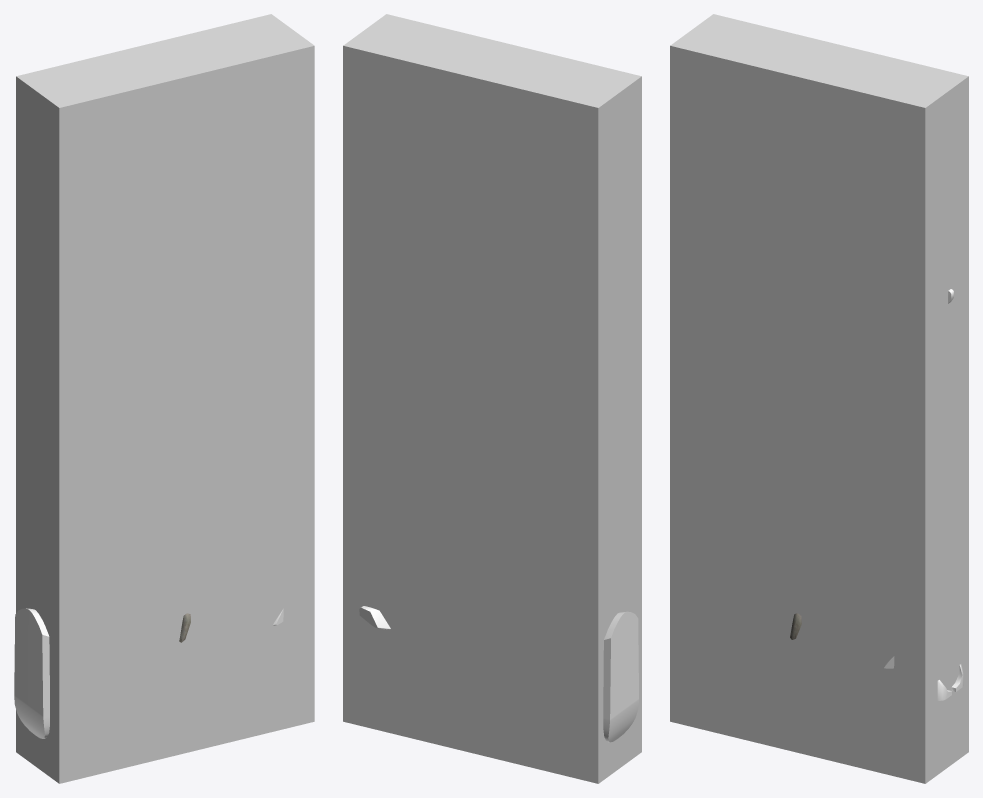
Rendered from pku_goldgun.glb.
3 renders of one model, left to right at view 1: azimuth 30°, elevation 25°; view 2: azimuth 150°, elevation 25°; view 3: azimuth 330°, elevation 25°, orthographic.
Visible parts, largest first — view 1: c_box_goldgun, g_frame; view 2: c_box_goldgun, g_frame; view 3: c_box_goldgun.
Part boxes in pixels (bbox=[...]): c_box_goldgun: bbox=[16, 14, 314, 783]; g_frame: bbox=[14, 608, 49, 738]; c_box_goldgun: bbox=[343, 14, 641, 783]; g_frame: bbox=[603, 611, 638, 742]; c_box_goldgun: bbox=[670, 14, 968, 783].
Bounding box in the file's own units: 0.1776 × 0.4351 × 0.0577.
5 materials, 1 textured.
